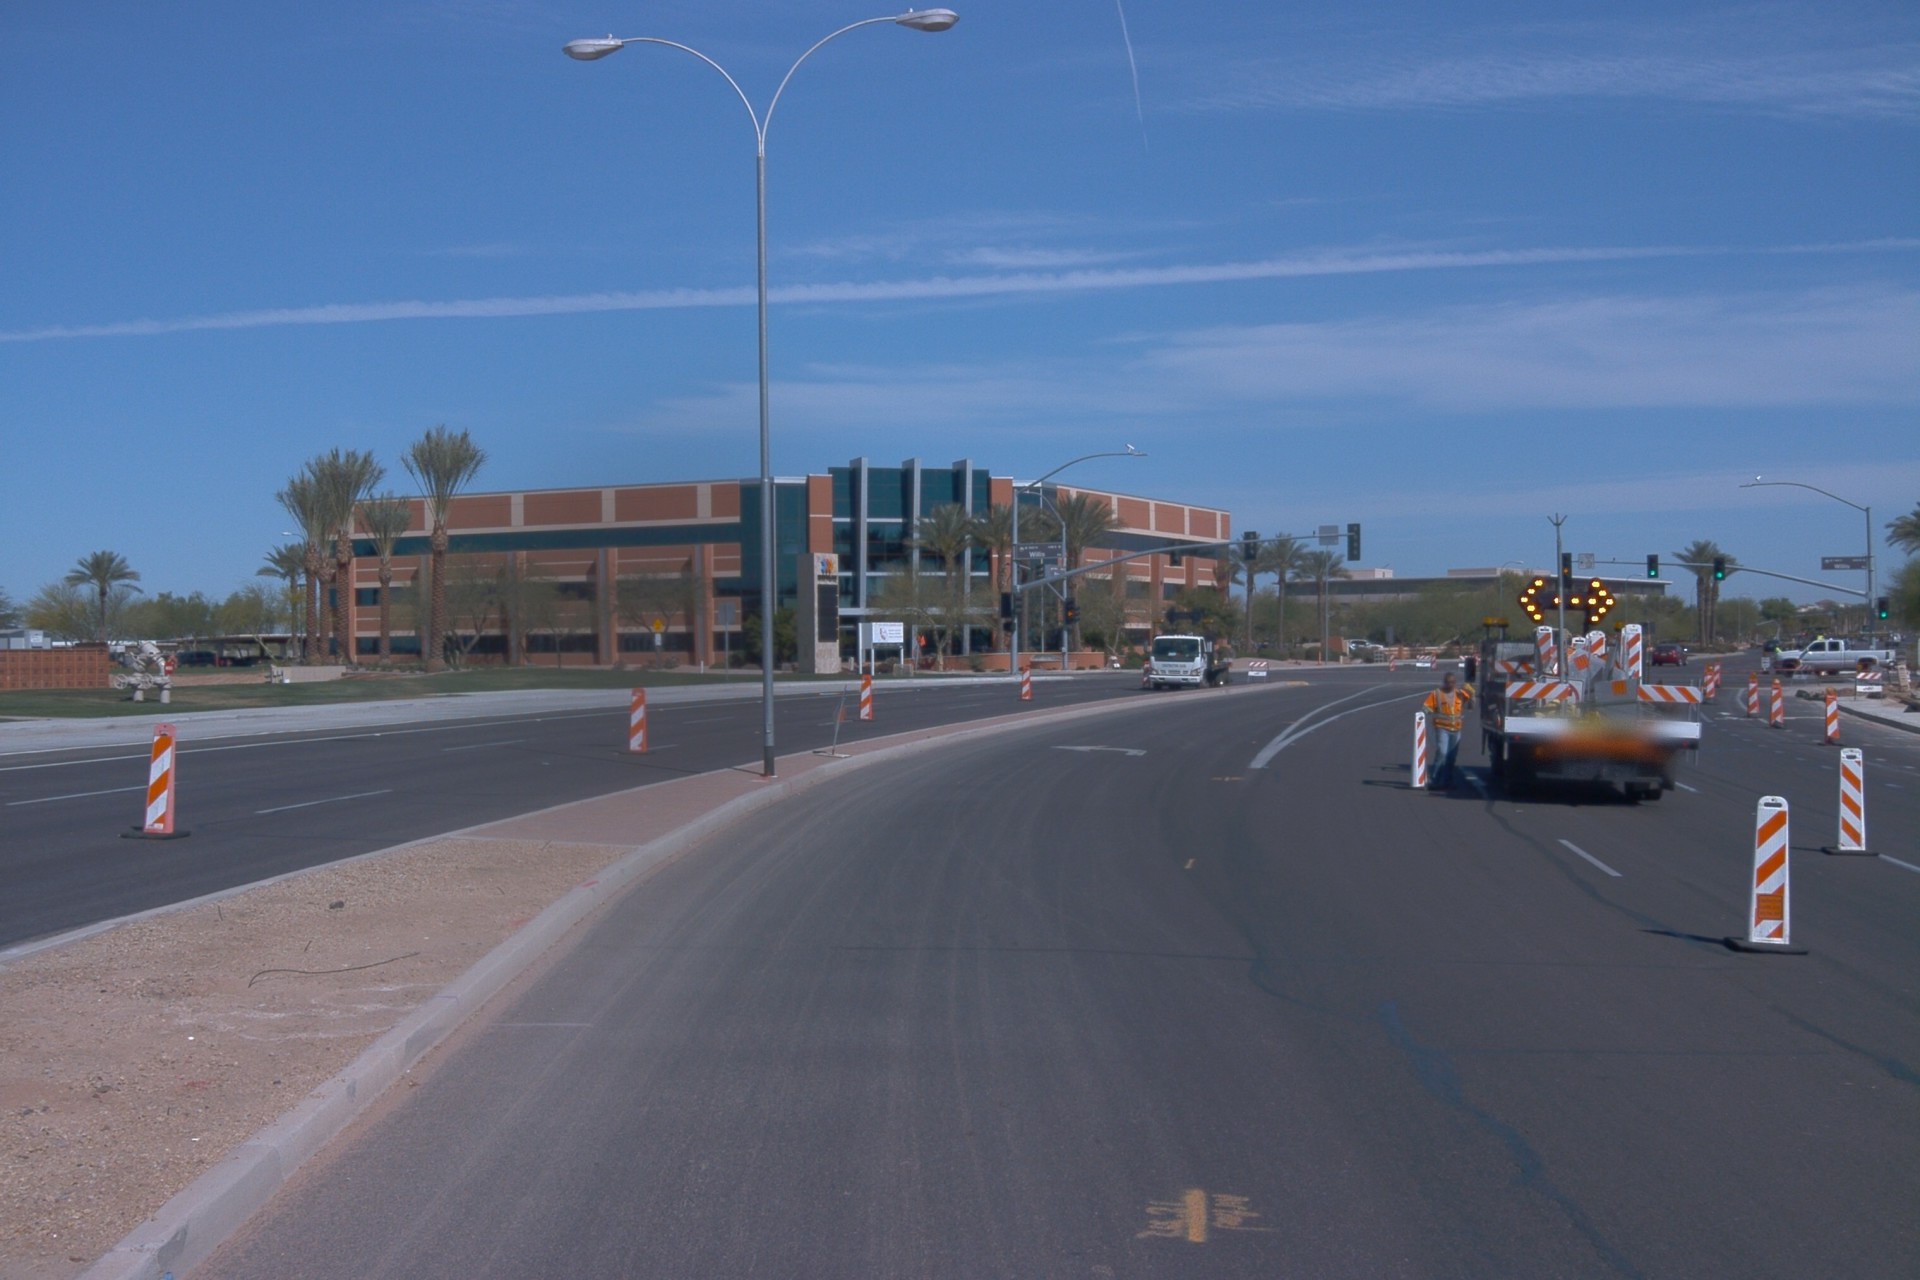TYPE_PEDESTRIAN: (1417, 671, 1477, 794)
TYPE_VEHICLE: (1467, 567, 1716, 807), (1142, 629, 1238, 695), (1772, 634, 1901, 680), (1653, 638, 1693, 670), (1528, 624, 1577, 649), (1347, 637, 1386, 654)
